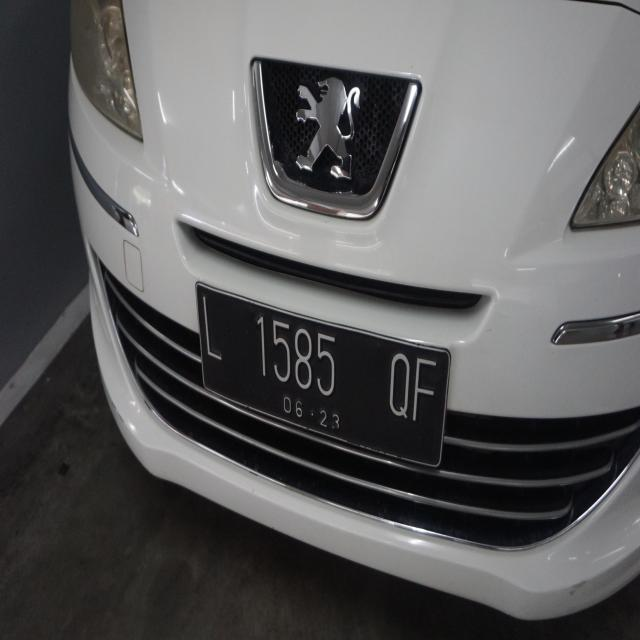1: (248, 309, 272, 386)
5: (314, 321, 336, 404), (269, 314, 293, 386)
8: (292, 318, 315, 396)
F: (406, 346, 436, 435)
L: (195, 284, 225, 368)
Q: (384, 342, 412, 433)
